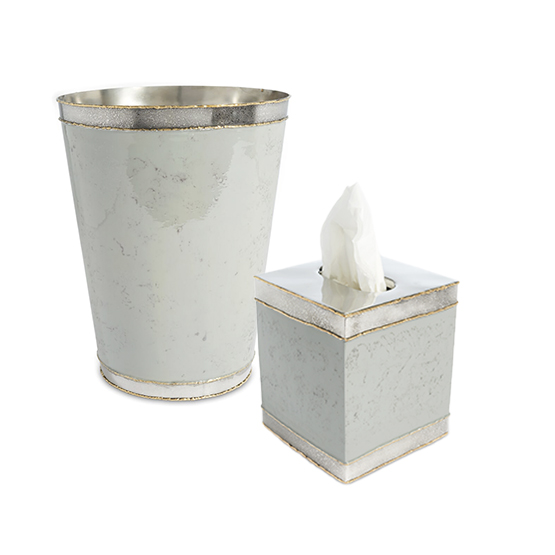Tissue: (318, 181, 393, 296)
